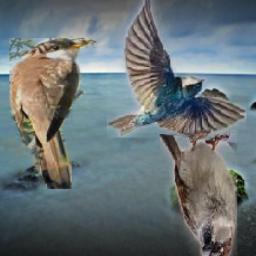Cuckoo: (9, 39, 96, 190)
Sparrow: (160, 131, 237, 256)
Swallow: (106, 0, 245, 138)
